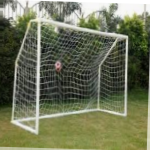goals: (7, 16, 131, 137)
